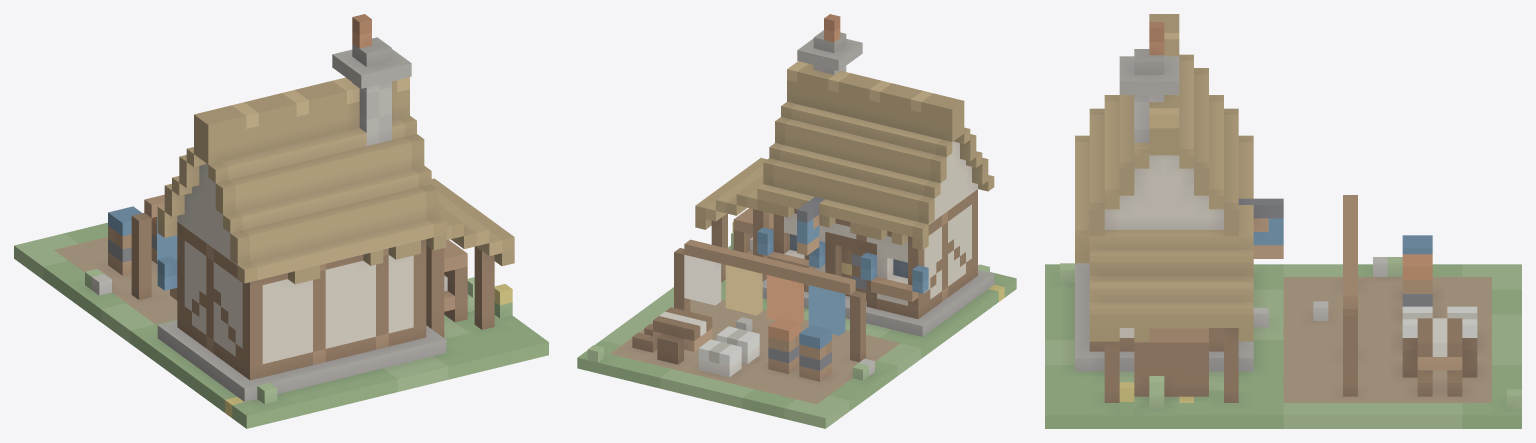
The model's file is weaver_wool.glb.
The picture shows the model from 3 angles, left to right: view 1: azimuth 30°, elevation 25°; view 2: azimuth 150°, elevation 25°; view 3: azimuth 270°, elevation 25°; orthographic projection. The views are drawn at different scales.
Visible parts, largest first — view 1: weaver_wool; view 2: weaver_wool; view 3: weaver_wool.
Boxes of the visible parts, x1,y1,x2,y2 form: weaver_wool: (14,14,548,428); weaver_wool: (577,14,1016,428); weaver_wool: (1045,14,1521,428).
Bounding box in the file's own units: 3 × 3.12 × 4.
